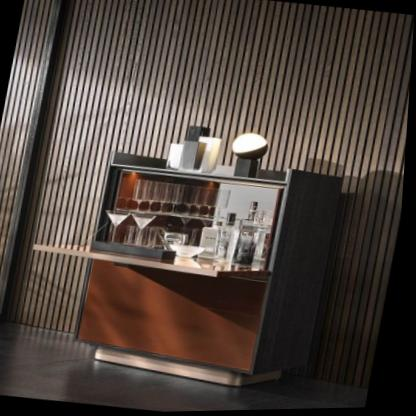Cupboard: (73, 141, 353, 402)
